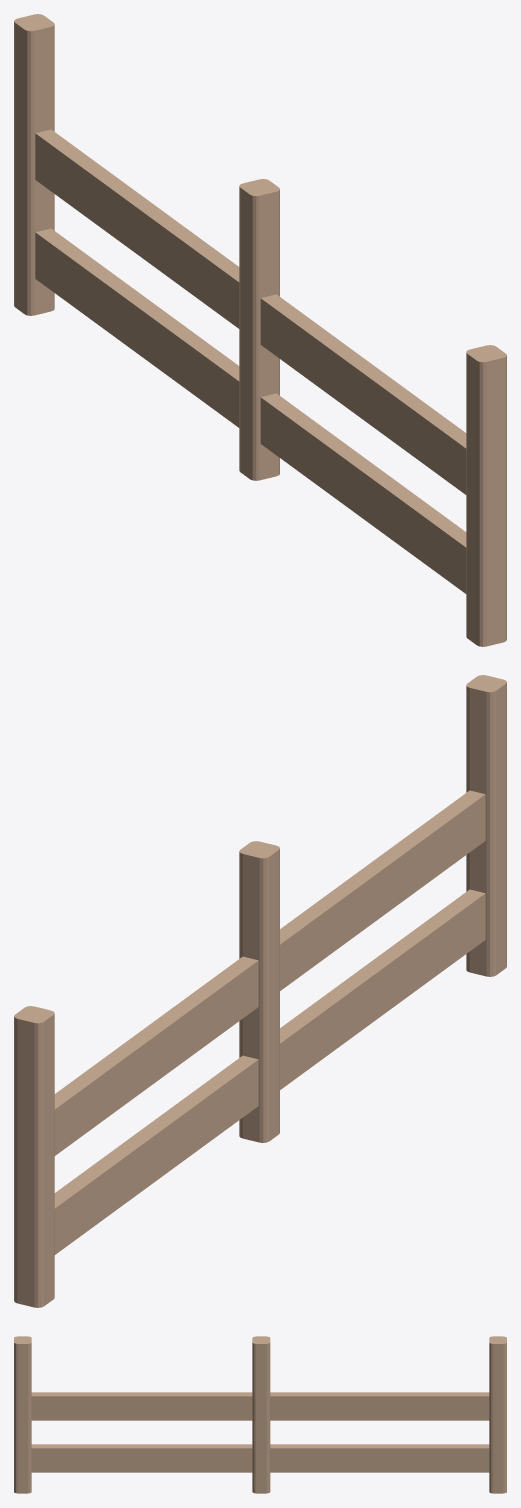
Rendered from Fence.fbx.
The picture shows the model from 3 angles, top to bottom: view 1: azimuth 30°, elevation 25°; view 2: azimuth 150°, elevation 25°; view 3: azimuth 270°, elevation 25°; orthographic projection. The views are drawn at different scales.
Parts seen in each view (by area): view 1: Wood Fence; view 2: Wood Fence; view 3: Wood Fence.
Boxes of the visible parts, box(x1,y1,x2,y2) form: Wood Fence: box(14, 14, 506, 646); Wood Fence: box(14, 675, 506, 1307); Wood Fence: box(14, 1336, 506, 1493).
Bounding box in the file's own units: 142 × 3971 × 1329.
